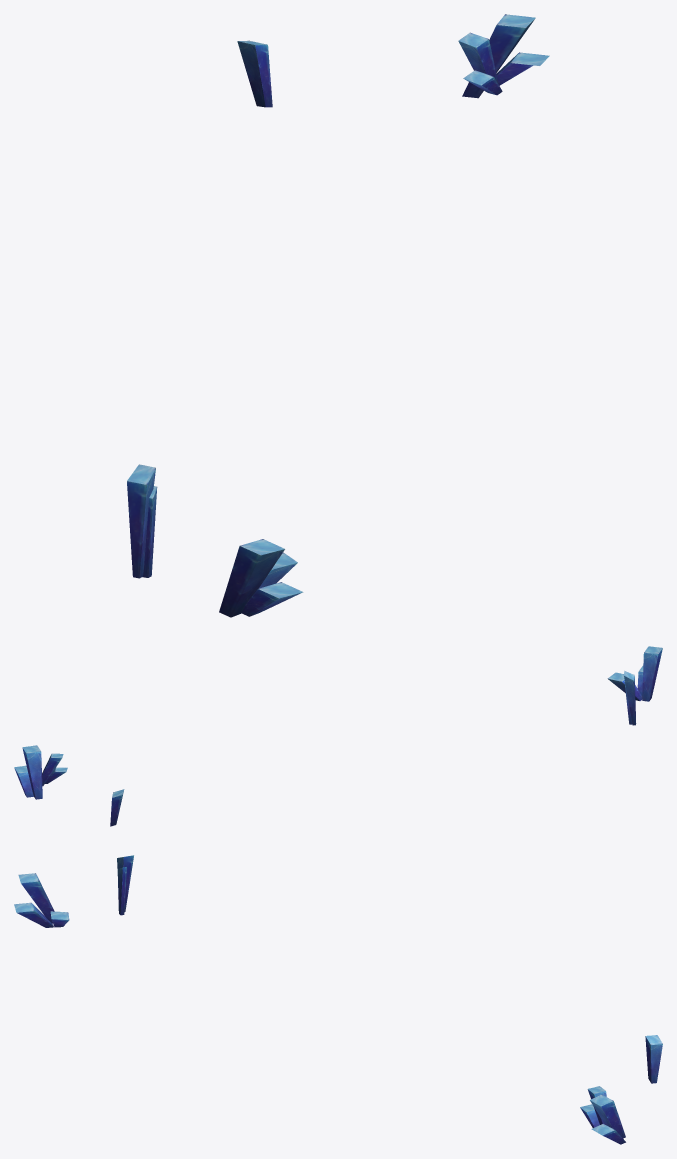
The model's file is Area06_7_y.FBX.
3 views of the same model, one above another, from view 1: azimuth 30°, elevation 25°; view 2: azimuth 150°, elevation 25°; view 3: azimuth 270°, elevation 25° (orthographic). The views are drawn at different scales.
Parts seen in each view (by area): view 1: Area06_7_y; view 2: Area06_7_y; view 3: Area06_7_y.
Boxes of the visible parts, x1,y1,x2,y2 form: Area06_7_y: [127, 14, 549, 617]; Area06_7_y: [14, 646, 662, 826]; Area06_7_y: [14, 855, 662, 1144].
Bounding box in the file's own units: 586 × 81.93 × 683.
